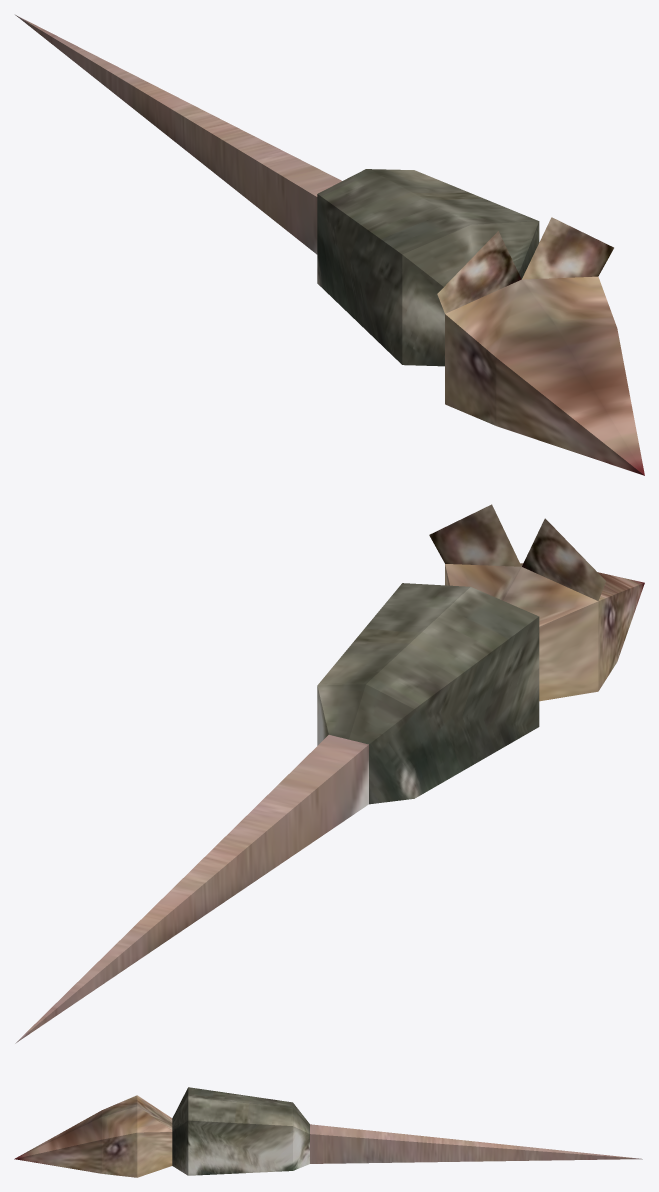
Rendered from pacov.glb.
The picture shows the model from 3 angles, top to bottom: view 1: azimuth 30°, elevation 25°; view 2: azimuth 150°, elevation 25°; view 3: azimuth 270°, elevation 25°; orthographic projection. The views are drawn at different scales.
Visible parts, largest first — view 1: Cube; view 2: Cube; view 3: Cube.
Boxes of the visible parts, x1,y1,x2,y2 form: Cube: (14,14,644,475); Cube: (15,504,644,1043); Cube: (14,1087,642,1177).
Size of the model in its own units: 2.59 by 2.25 by 15.97.
Materials: 1 (1 with a texture image).
